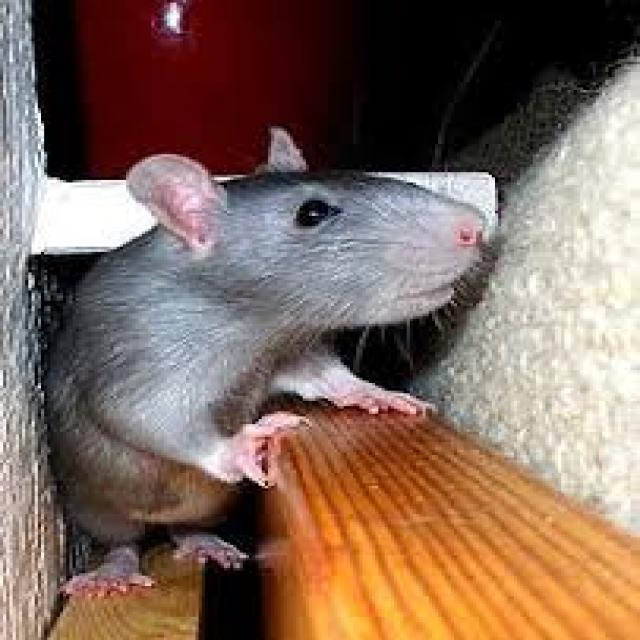rat: (38, 124, 489, 596)
